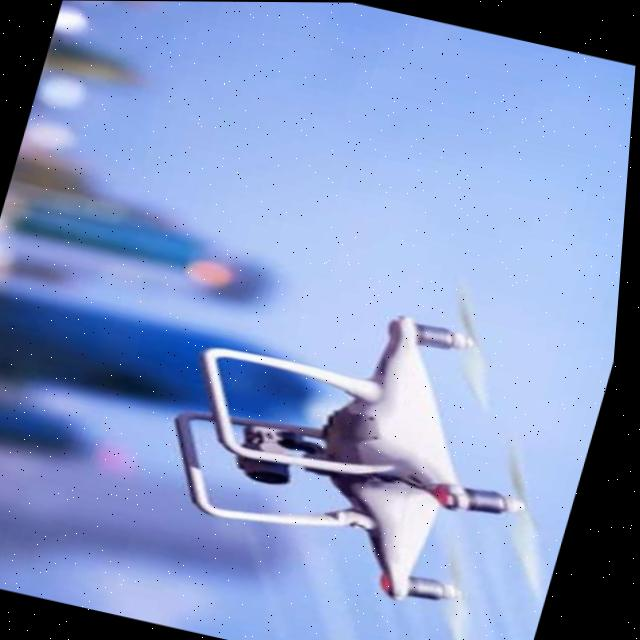drones: (92, 249, 626, 640)
